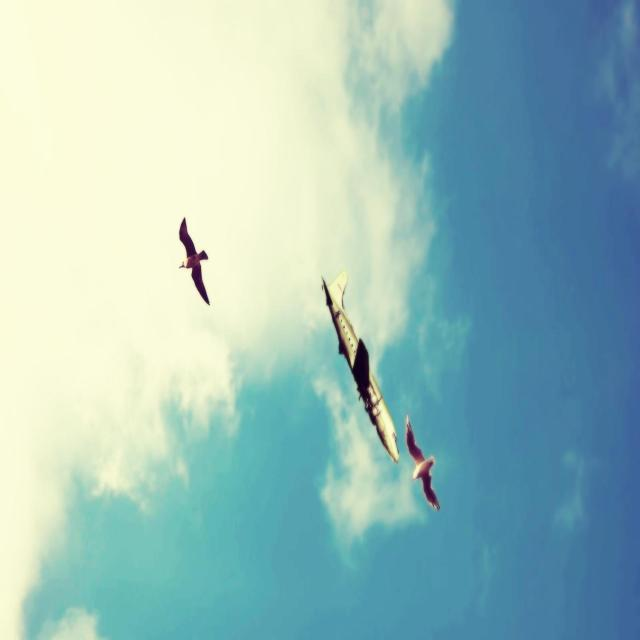airplane: (320, 269, 400, 463)
